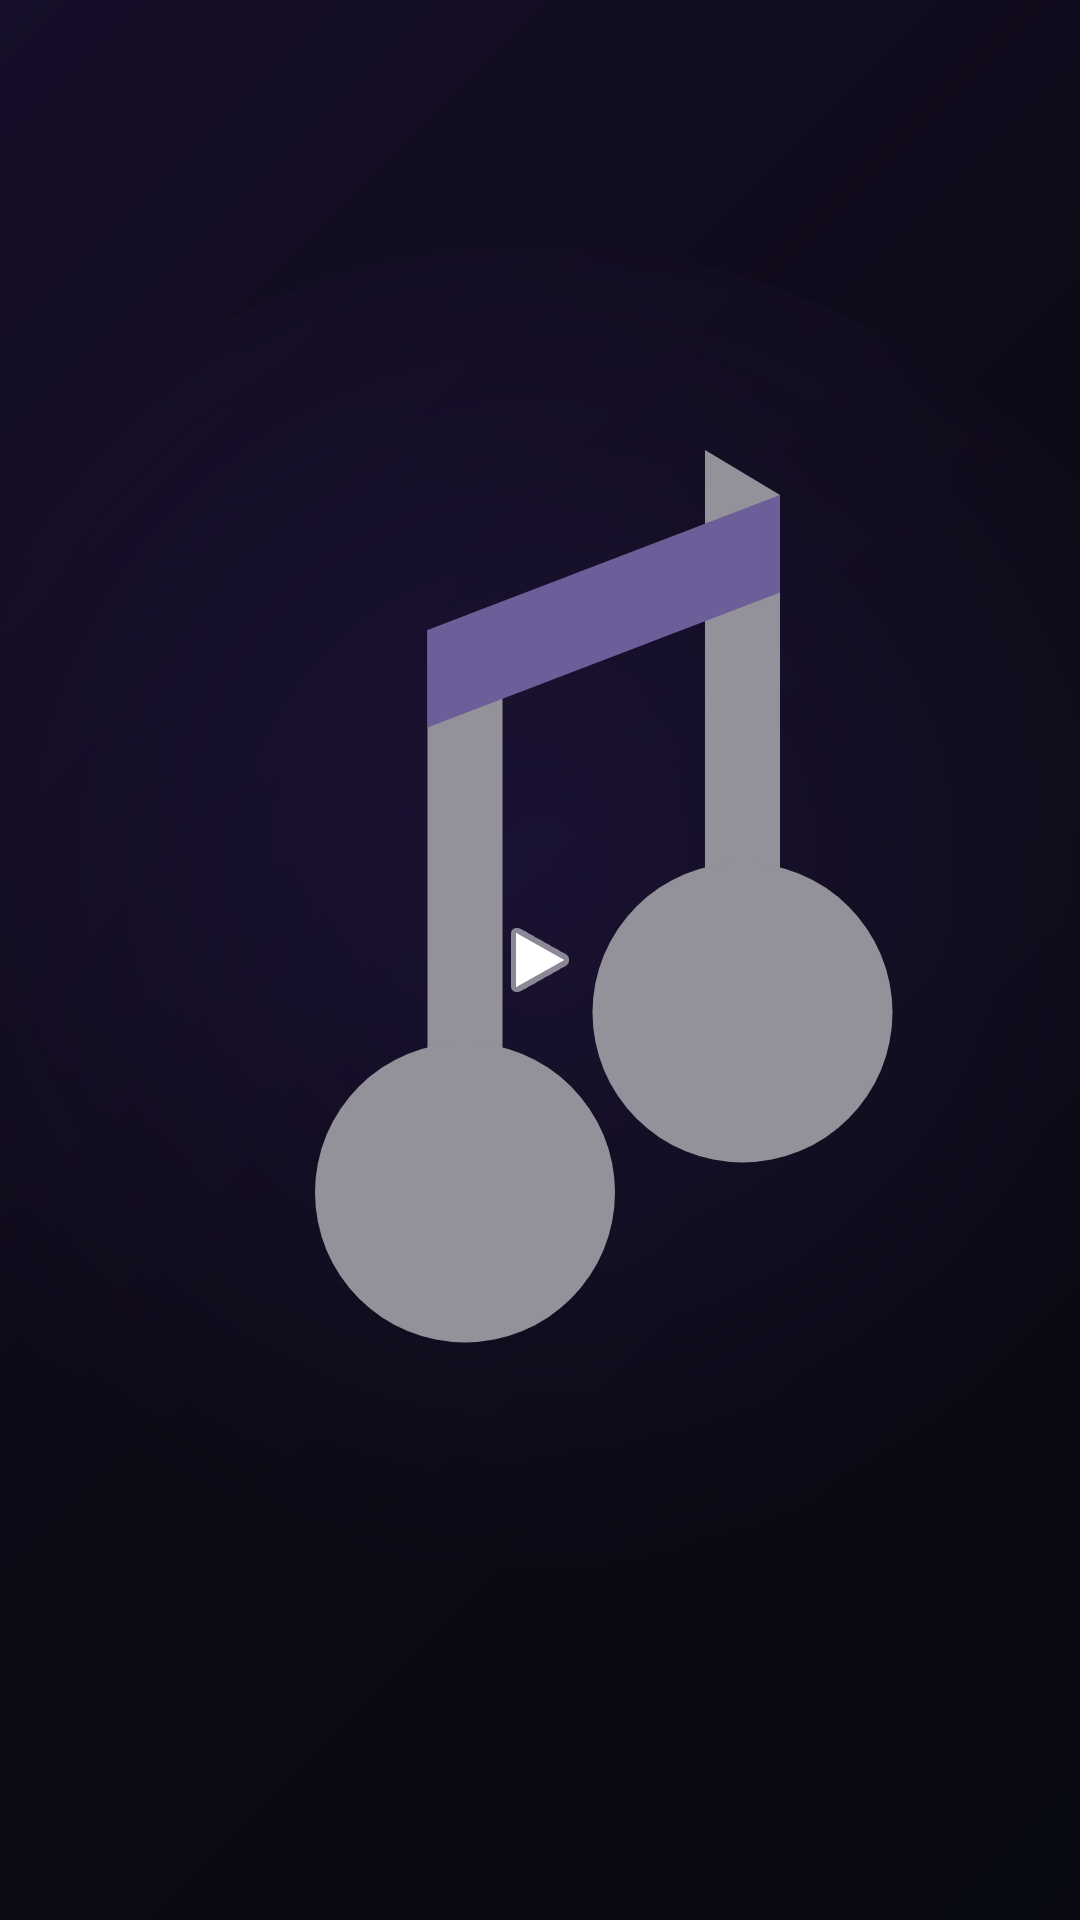

Named icons in this screenshot (1080px×1920px) and their centers, (x,y):
Play: (540,960)
